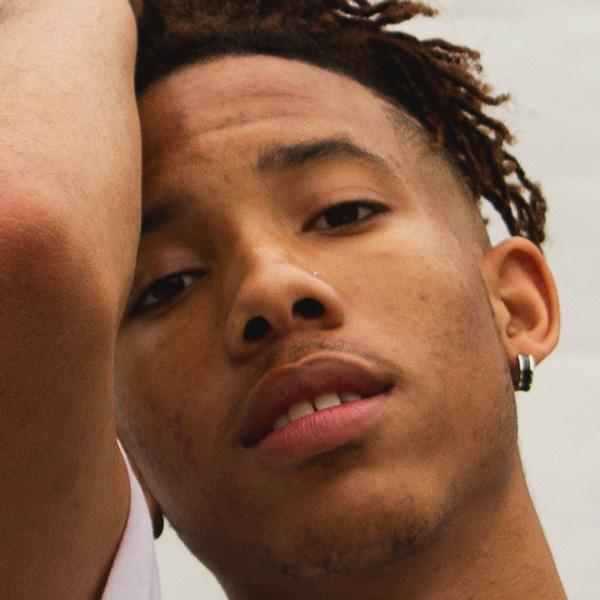Eyes: (117, 238, 220, 329), (298, 175, 400, 250)
